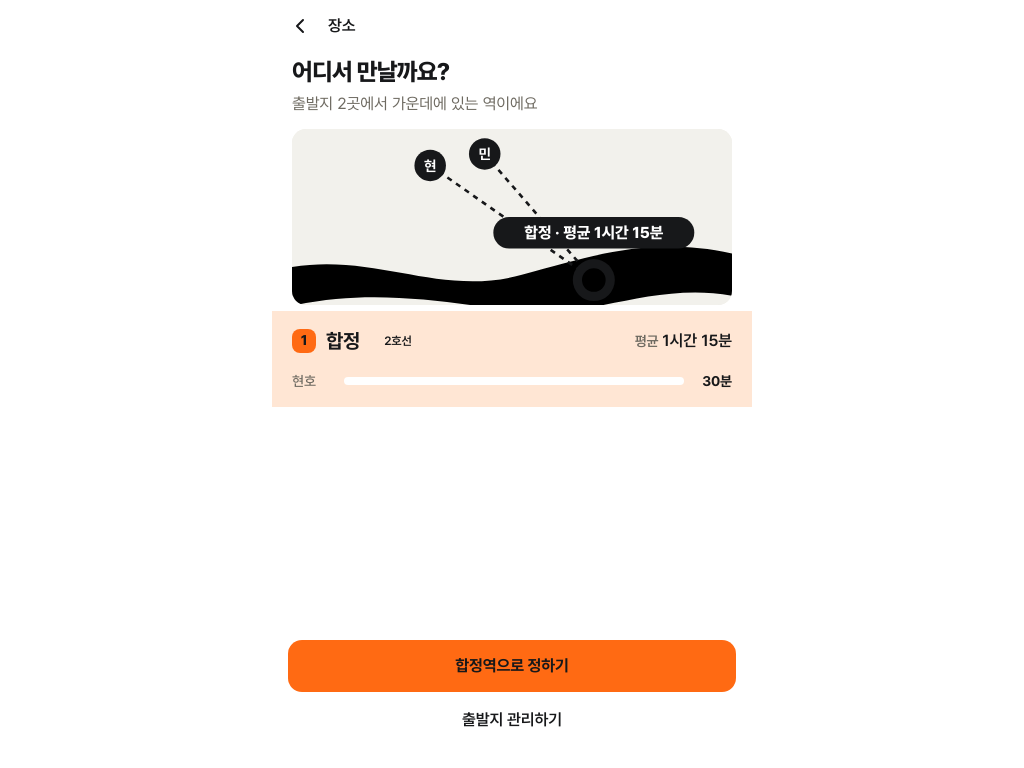
Test: 확정 시트의 평균 시간도 60분이 넘으면 시간과 분으로 적는다
Step 1. Click the button "합정역으로 정하기" → [512, 666], box [288,640,736,692]
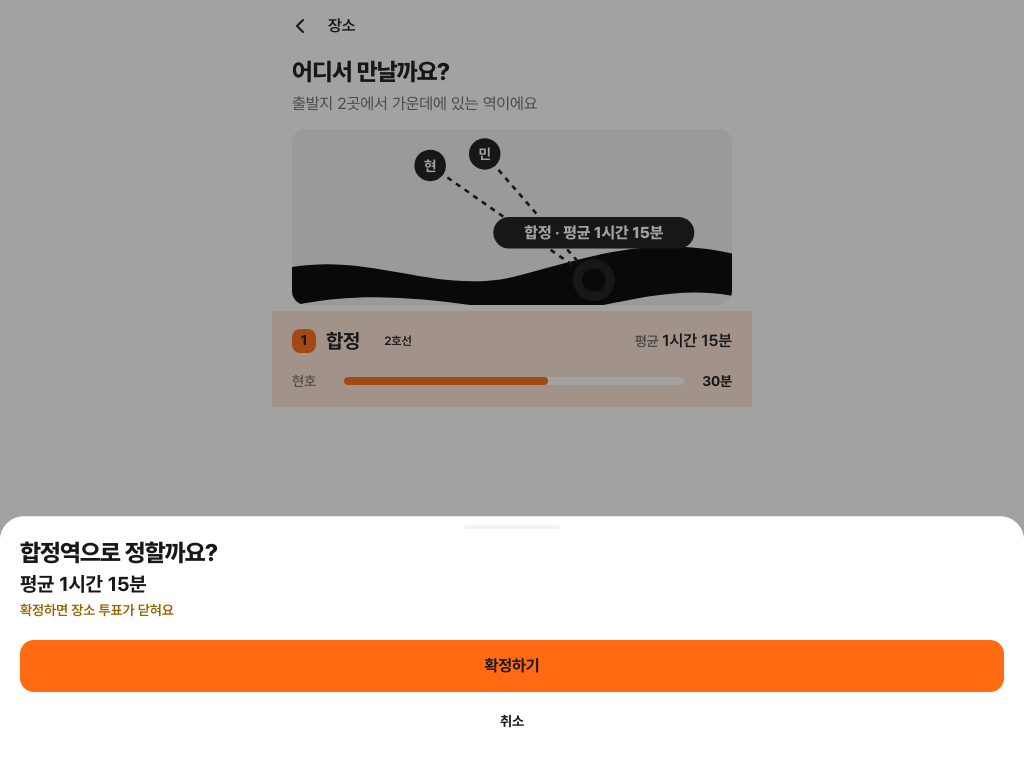
Expected: the text "평균 1시간 15분" is shown, [20,569,146,597]
